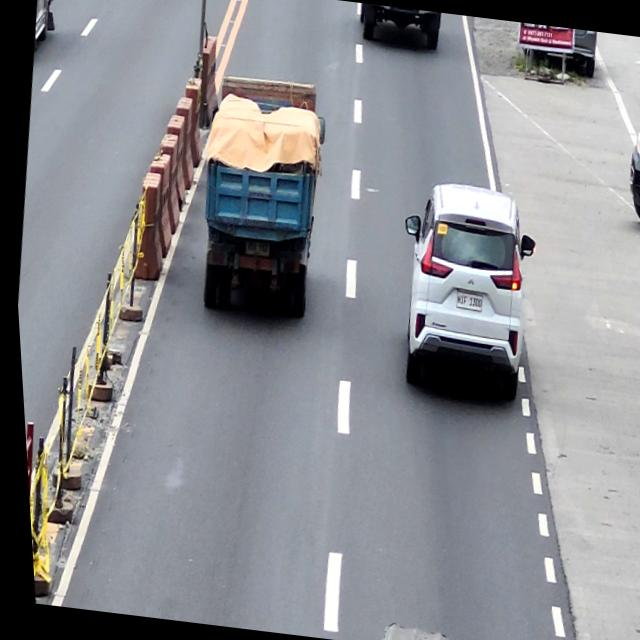Car: (379, 175, 545, 408), (617, 106, 640, 228)
License-Plate: (450, 290, 481, 312), (240, 239, 268, 258), (637, 167, 640, 186)
Truck: (183, 72, 338, 324)
